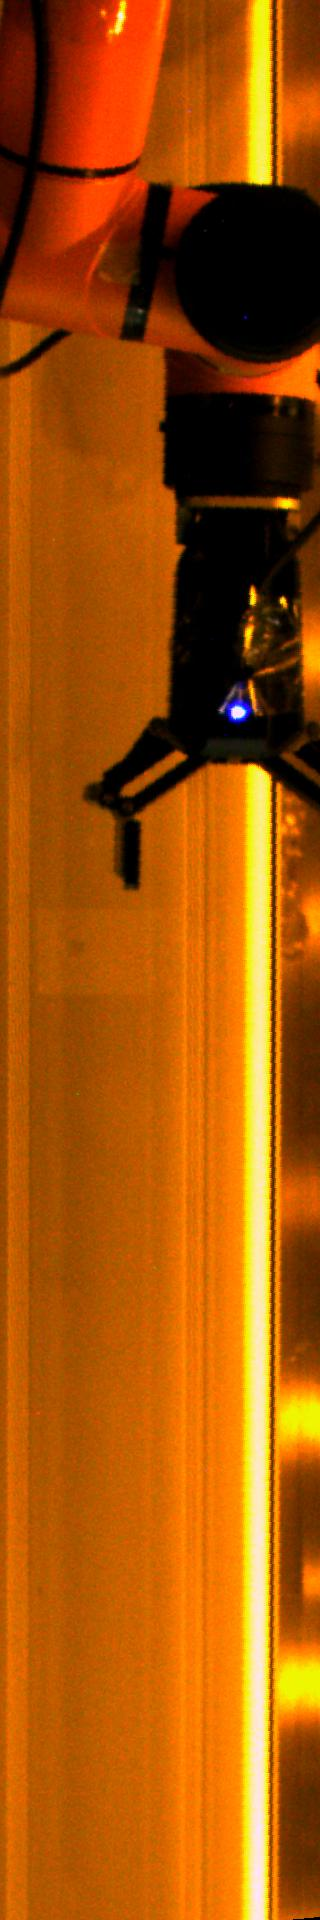keyPoint_1: (223, 697, 253, 727)
